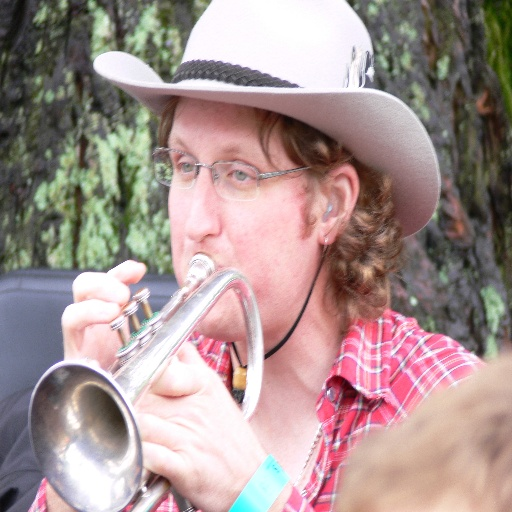hand: (128, 364, 263, 507), (61, 261, 146, 375)
